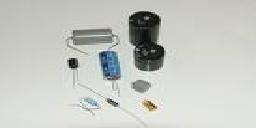Electrolytic-Capacitor: (59, 28, 122, 49), (99, 48, 127, 91), (64, 57, 81, 84)
